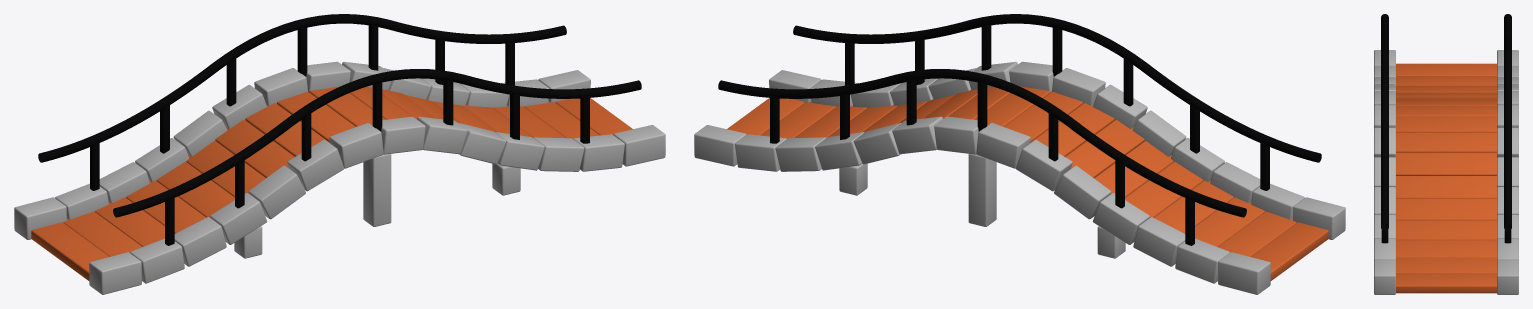
Rendered from uploads-files-4523328-bridgefbx.fbx.
The picture shows the model from 3 angles, left to right: view 1: azimuth 30°, elevation 25°; view 2: azimuth 150°, elevation 25°; view 3: azimuth 270°, elevation 25°; orthographic projection. The views are drawn at different scales.
Parts seen in each view (by area): view 1: stone, Wood, steel_handle, pillar; view 2: stone, Wood, steel_handle; view 3: Wood, stone, steel_handle.
Boxes of the visible parts, box(x1,y1,x2,y2) form: stone: box(14, 61, 665, 294); Wood: box(31, 86, 632, 280); steel_handle: box(38, 14, 641, 245); pillar: box(234, 154, 520, 258); stone: box(694, 61, 1345, 294); Wood: box(727, 86, 1328, 280); steel_handle: box(718, 14, 1321, 245); Wood: box(1396, 63, 1496, 293); stone: box(1374, 50, 1518, 294); steel_handle: box(1381, 14, 1511, 243).
Size of the model in its own units: 1218 by 305 by 330.
